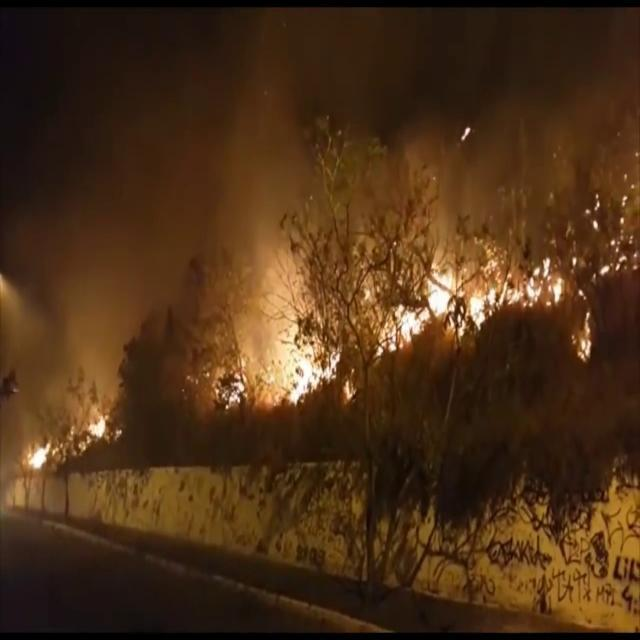Fire: (373, 253, 562, 361), (277, 329, 337, 403), (222, 358, 248, 411), (573, 312, 596, 360), (25, 440, 52, 470), (86, 415, 105, 441)
